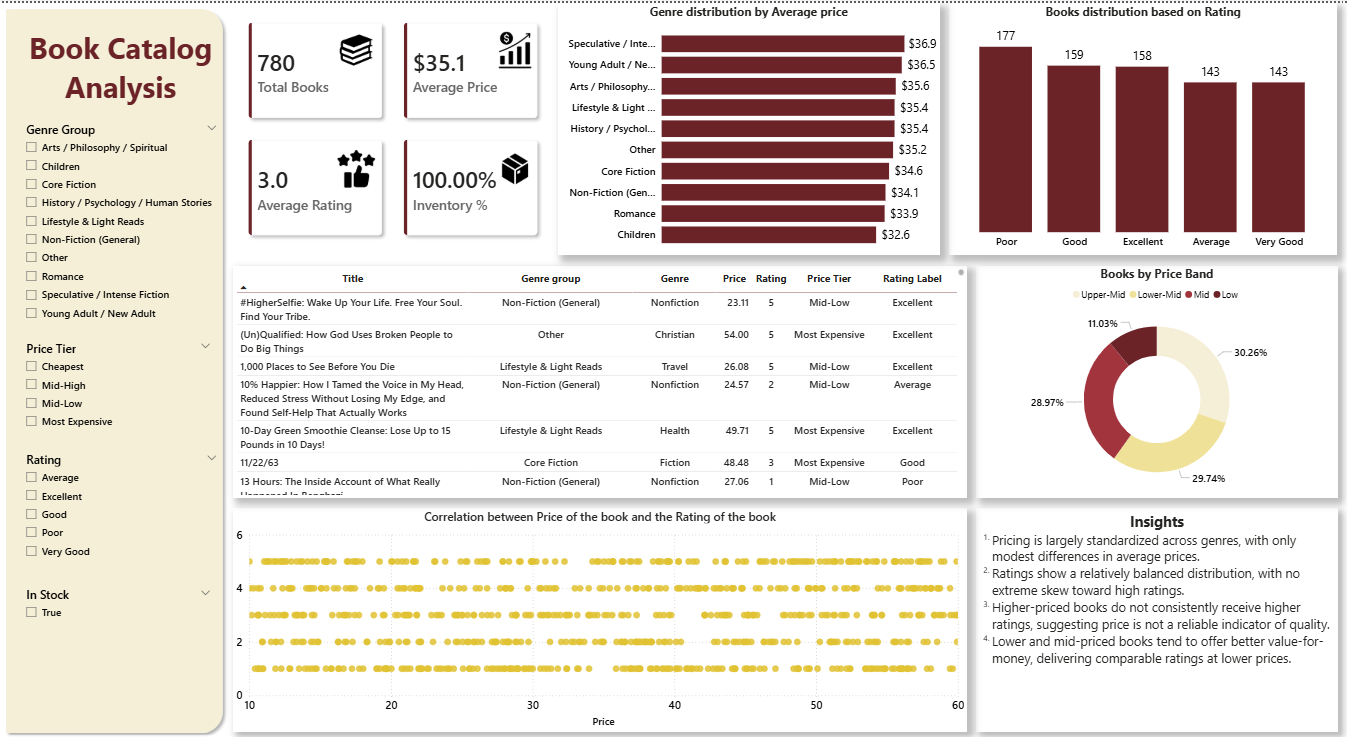

This screenshot's page, from the dashboard's own definition file:
{"tool":"powerbi","page":{"name":"Dashboard","canvas":[1980,1080],"ordinal":0},"visuals":[{"type":"shape","box":[0,0,335.7,1080.4],"z":0},{"type":"textbox","box":[33,31.2,288,137.6],"z":1},{"type":"slicer","fields":{"Values":["books_clean_final.genre_group"]},"box":[25.7,168.8,304.5,321],"z":2},{"type":"slicer","fields":{"Values":["books_clean_final.price_tier"]},"box":[25.7,489.7,295.3,150.4],"z":3},{"type":"slicer","fields":{"Values":["books_clean_final.rating_label"]},"box":[25.7,653,304.5,176.1],"z":4},{"type":"slicer","fields":{"Values":["books_clean_final.in_stock"]},"box":[25.7,851.1,295.3,69.7],"z":5},{"type":"cardVisual","fields":{"Data":["books_clean_final.Total Books","books_clean_final.Average Price","books_clean_final.Average Rating","CountNonNull(books_clean_final.in_stock)"]},"box":[335.7,0,482.4,370.5],"z":6},{"type":"barChart","title":"Genre distribution by Average price","fields":{"Category":["books_clean_final.genre_group"],"Y":["books_clean_final.Average Price"]},"box":[818.1,0,561.3,370.5],"z":7},{"type":"textbox","box":[1432.5,741,530.1,328.3],"z":8},{"type":"columnChart","title":"Books distribution based on Rating","fields":{"Category":["books_clean_final.rating_label"],"Y":["books_clean_final.Total Books"]},"box":[1392.2,0,570.5,370.5],"z":9},{"type":"donutChart","title":"Books by Price Band","fields":{"Category":["books_clean_final.price_band"],"Y":["books_clean_final.Total Books"]},"box":[1432.5,385.2,530.1,341.2],"z":10},{"type":"tableEx","fields":{"Values":["books_clean_final.title","books_clean_final.genre_group","books_clean_final.genre","books_clean_final.price","books_clean_final.rating","books_clean_final.price_tier","books_clean_final.rating_label"]},"box":[341.2,385.2,1078.5,341.2],"z":11},{"type":"scatterChart","title":"Correlation between Price of the book and the Rating of the book","fields":{"X":["books_clean_final.price"],"Y":["books_clean_final.rating"]},"box":[341.2,741,1078.5,328.3],"z":12},{"type":"image","box":[495.2,210.9,55,64.2],"z":13},{"type":"image","box":[728.2,36.7,55,64.2],"z":14},{"type":"image","box":[728.2,210.9,55,64.2],"z":15},{"type":"image","box":[495.2,36.7,55,64.2],"z":16}]}

Visuals, with their boxes in screenshot pixels (x1, y1, x2, y2), scaled from the page's 1980x1080 canvas onto the 1347x737 screenshot:
shape: Rect(0, 0, 228, 736)
textbox: Rect(22, 21, 218, 115)
slicer - books_clean_final.genre_group: Rect(17, 115, 225, 334)
slicer - books_clean_final.price_tier: Rect(17, 334, 218, 437)
slicer - books_clean_final.rating_label: Rect(17, 446, 225, 566)
slicer - books_clean_final.in_stock: Rect(17, 581, 218, 628)
cardVisual - books_clean_final.Total Books x books_clean_final.Average Price: Rect(228, 0, 557, 253)
"Genre distribution by Average price" barChart: Rect(557, 0, 938, 253)
textbox: Rect(975, 506, 1335, 730)
"Books distribution based on Rating" columnChart: Rect(947, 0, 1335, 253)
"Books by Price Band" donutChart: Rect(975, 263, 1335, 496)
tableEx - books_clean_final.title x books_clean_final.genre_group: Rect(232, 263, 966, 496)
"Correlation between Price of the book and the Rating of the book" scatterChart: Rect(232, 506, 966, 730)
image: Rect(337, 144, 374, 188)
image: Rect(495, 25, 533, 69)
image: Rect(495, 144, 533, 188)
image: Rect(337, 25, 374, 69)
